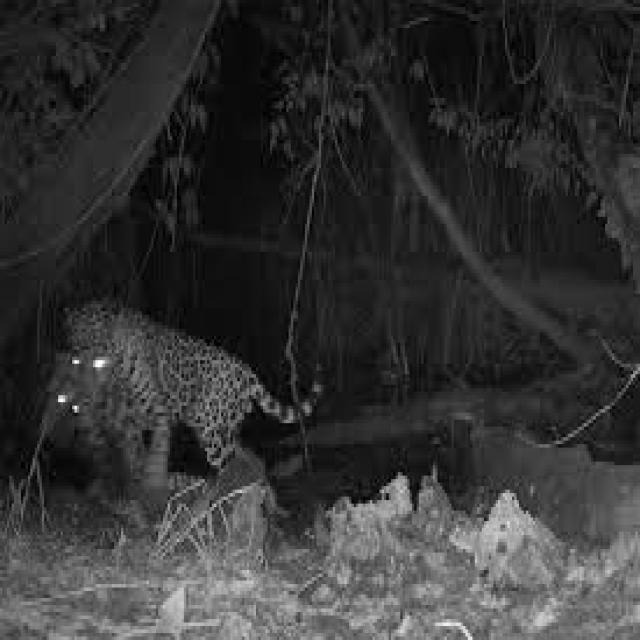Jaguar: (74, 283, 277, 476), (47, 342, 86, 440)
